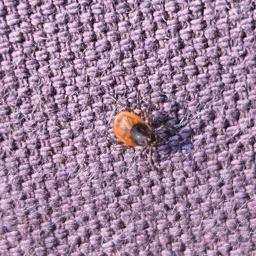Ixodes scapularis: (107, 90, 164, 170)
